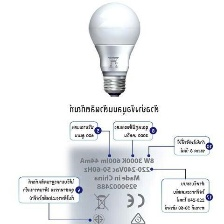light_bulb: (84, 0, 143, 99)
